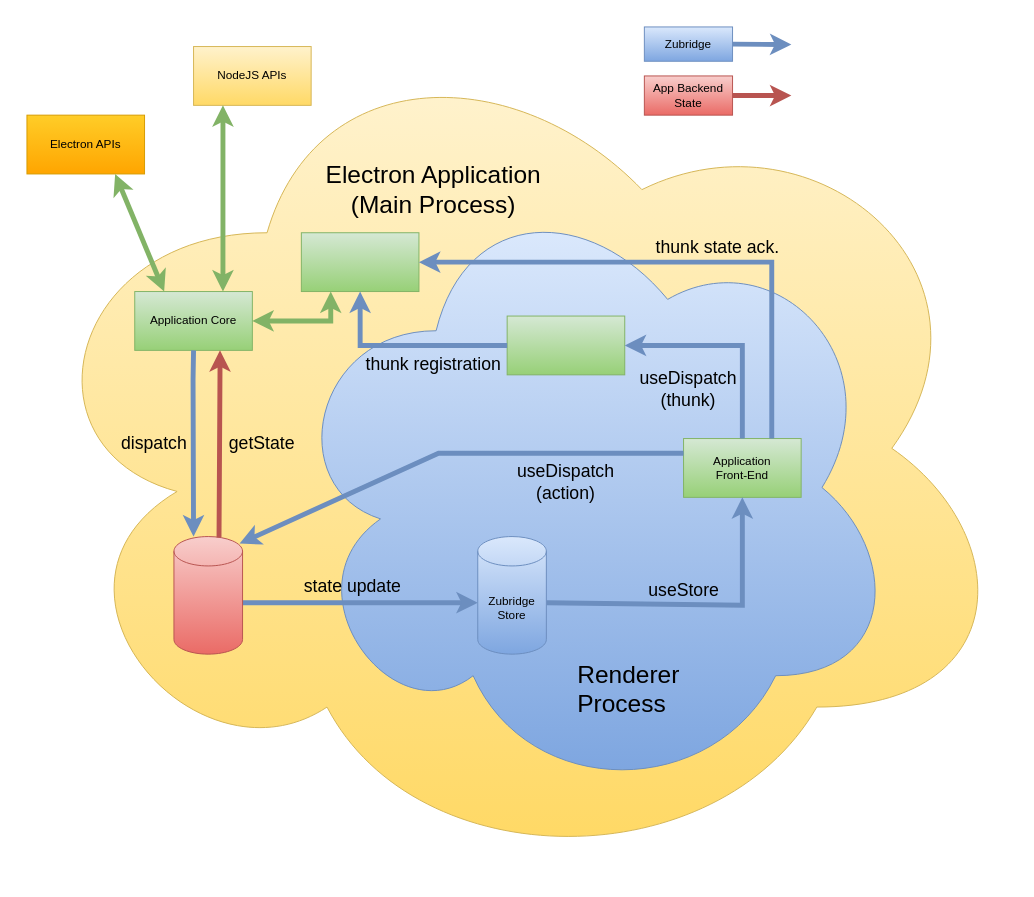
The diagram is 1034 pixels wide and 897 high, and some of its shapes have lost their labels. The shapes that lost their labels are listed below. From the top down, each one's box as (x1, y1, x2, y2) in pixels, then its label:
(300, 232, 419, 292): Thunk Management System
(506, 315, 625, 375): Thunk Processor
(173, 536, 243, 654): Application Store
